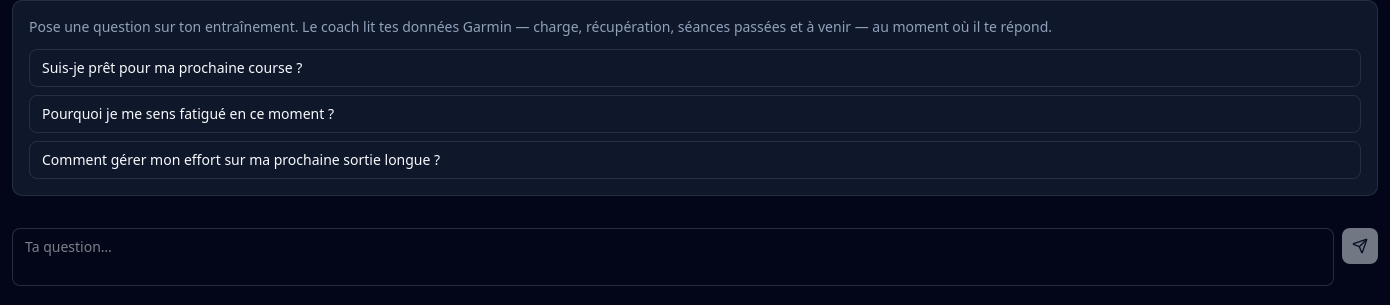
Test: ChatPanel › sends a question and displays the answer
Type "Je suis frais ?" into the text box with placeholder "Ta question…" at (673, 257), box [12,228,1334,286]
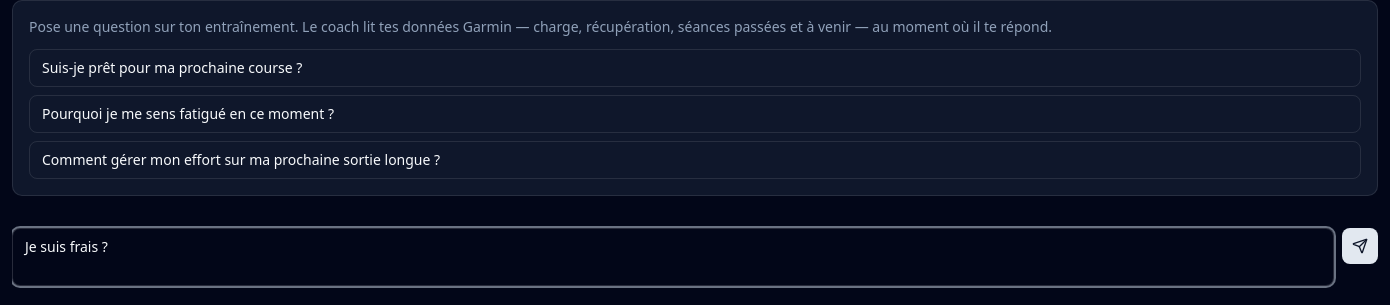
Click the button named "Envoyer" at (1360, 246), box [1342,228,1378,264]
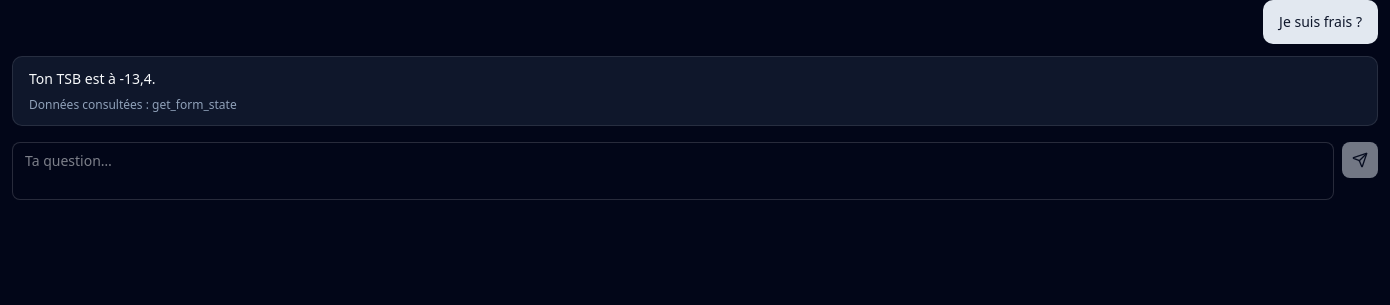
Expected: the text "Ton TSB est à -13,4." is shown, [29,69,156,88]
Expected: the text "Je suis frais ?" is shown, [1279,12,1362,32]
